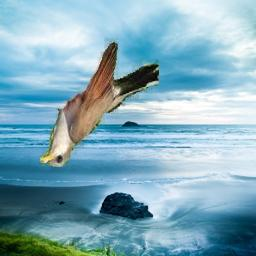Cuckoo: (40, 37, 159, 167)
